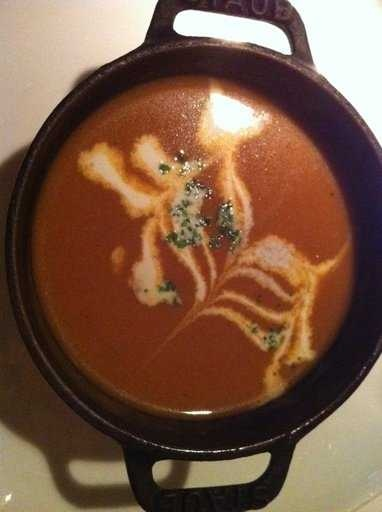soup: (14, 70, 377, 446)
